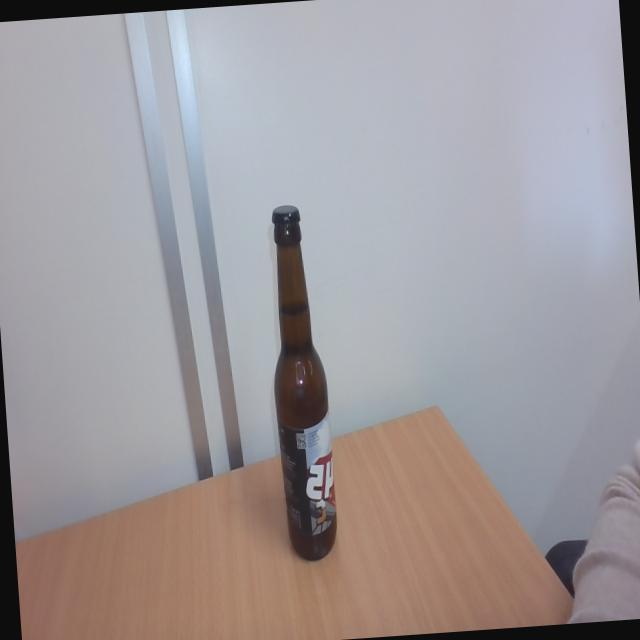Bottle: (264, 226, 340, 559)
Cap: (268, 200, 303, 228)
Label: (278, 412, 339, 538)
